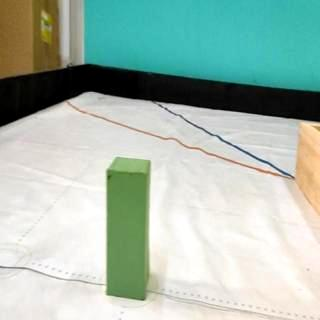greenbox: (104, 156, 150, 301)
